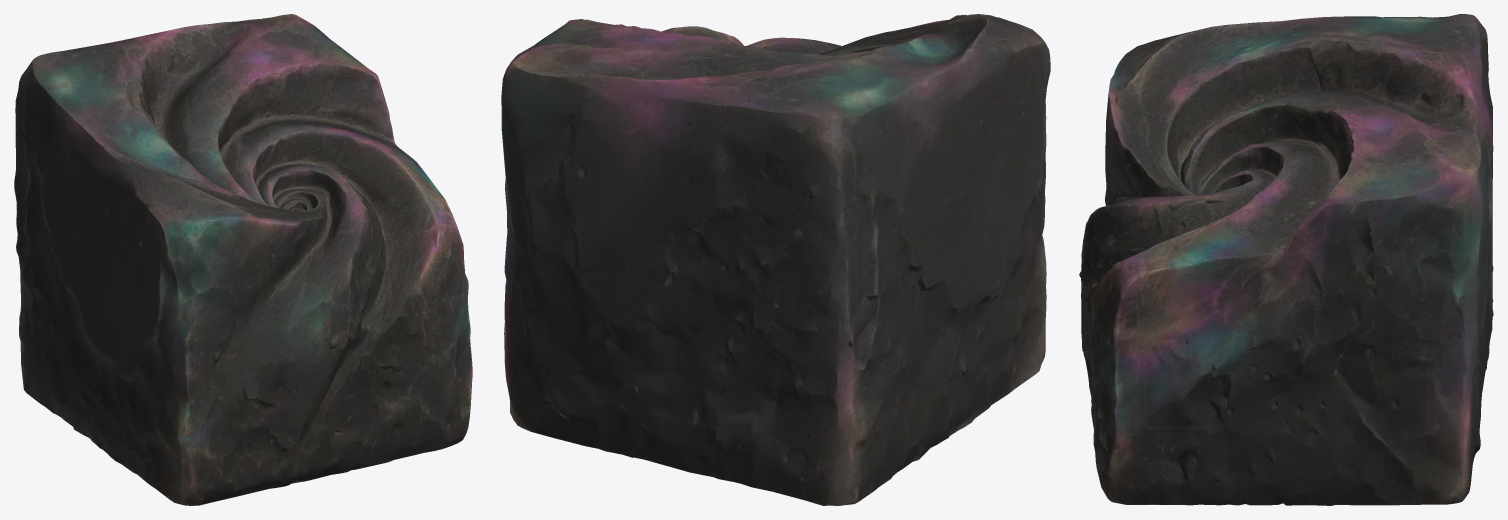
3 views of the same model, side by side, from view 1: azimuth 30°, elevation 25°; view 2: azimuth 150°, elevation 25°; view 3: azimuth 270°, elevation 25° (orthographic). The views are drawn at different scales.
Visible parts, largest first — view 1: Mesh_0; view 2: Mesh_0; view 3: Mesh_0.
Boxes of the visible parts, x1=… form: Mesh_0: x1=14, y1=14, x2=472, y2=505; Mesh_0: x1=501, y1=14, x2=1050, y2=505; Mesh_0: x1=1079, y1=14, x2=1493, y2=505.
Bounding box in the file's own units: 1.8 × 1.8 × 1.92.
Materials: 1 (1 with a texture image).
